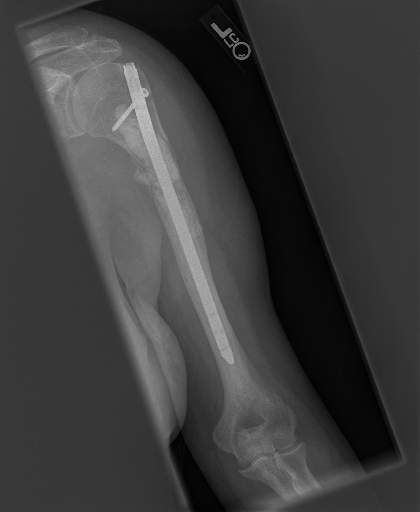implant: (93, 56, 166, 156), (187, 278, 243, 376)
